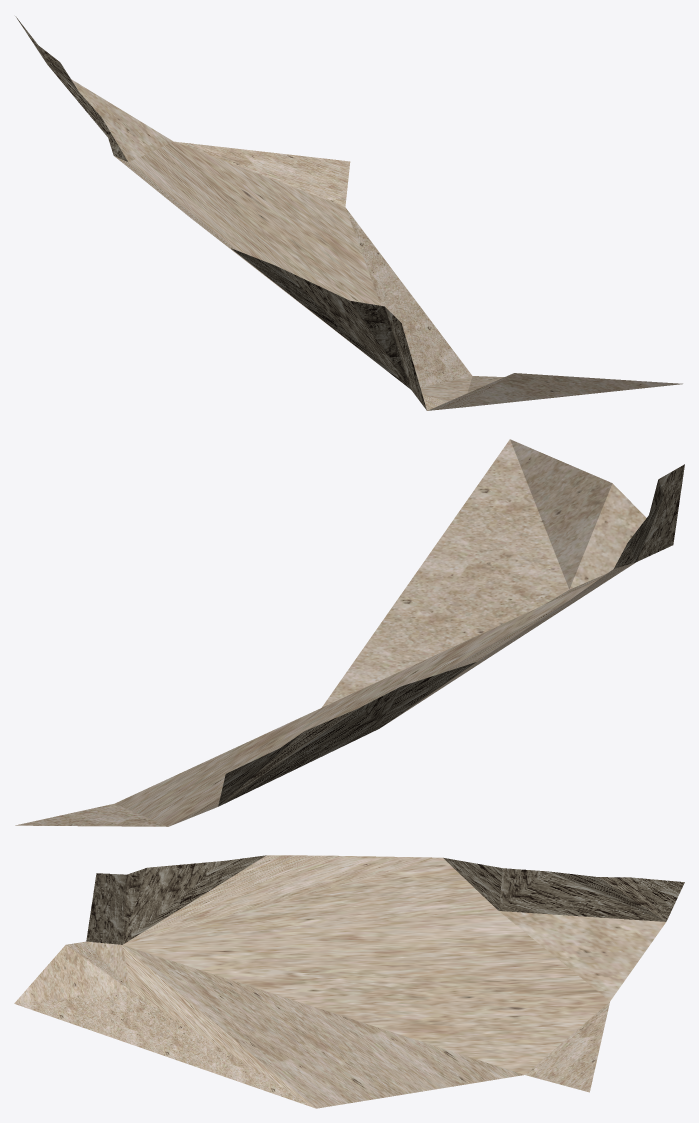
File: lodseabed089.obj
3 renders of one model, top to bottom at view 1: azimuth 30°, elevation 25°; view 2: azimuth 150°, elevation 25°; view 3: azimuth 270°, elevation 25°, orthographic. The views are drawn at different scales.
Visible parts, largest first — view 1: lodseabed089; view 2: lodseabed089; view 3: lodseabed089.
Boxes of the visible parts, x1=… form: lodseabed089: x1=15, y1=16, x2=682, y2=410; lodseabed089: x1=15, y1=439, x2=684, y2=826; lodseabed089: x1=14, y1=855, x2=684, y2=1108.
Bounding box in the file's own units: 181 × 110 × 427.
